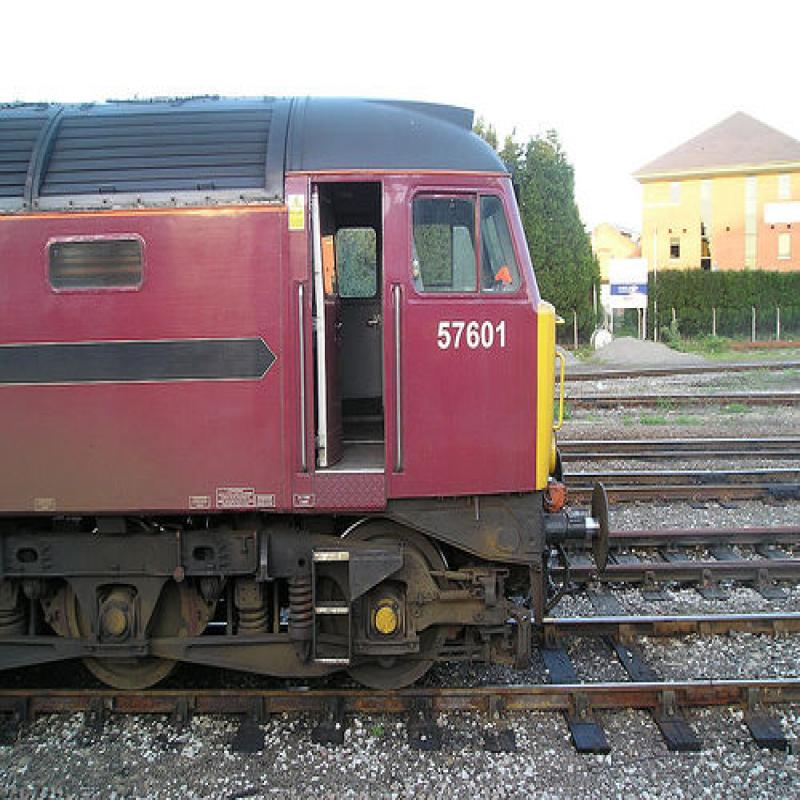train: (1, 93, 612, 692)
